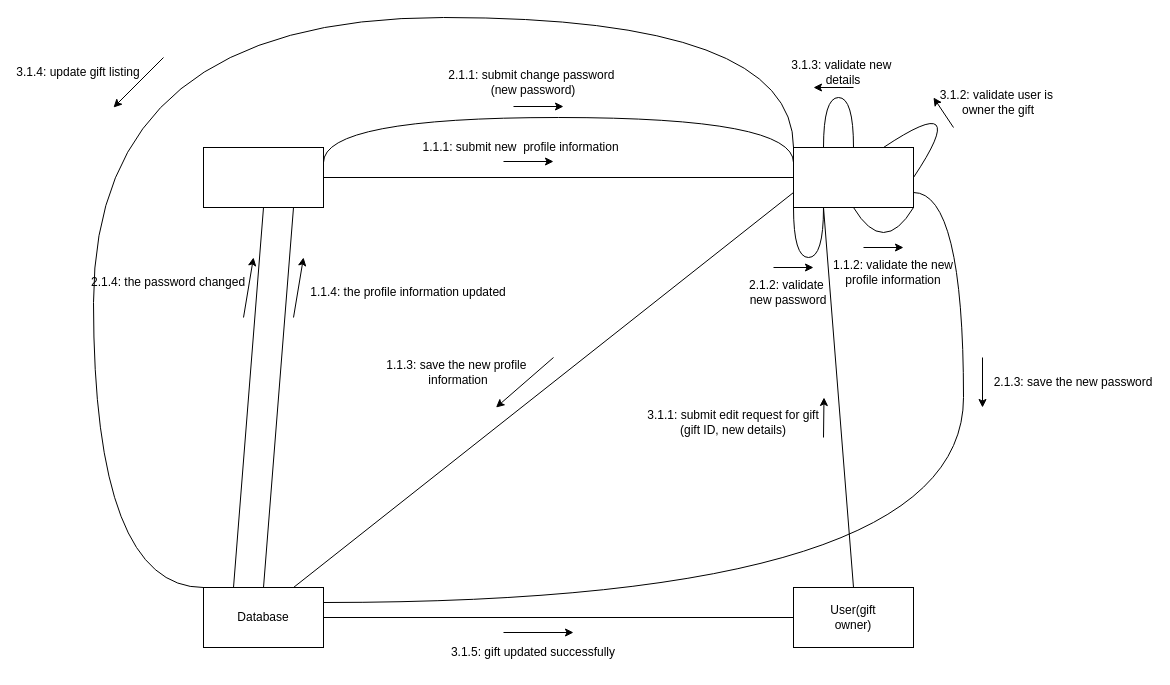
The diagram is 1170 pixels wide and 685 high, and some of its shapes have lost their labels. Here are the shapes that lost their labels. From the top down, the centre of each, then its label:
At (263,177): "User".
At (853,177): "System".
